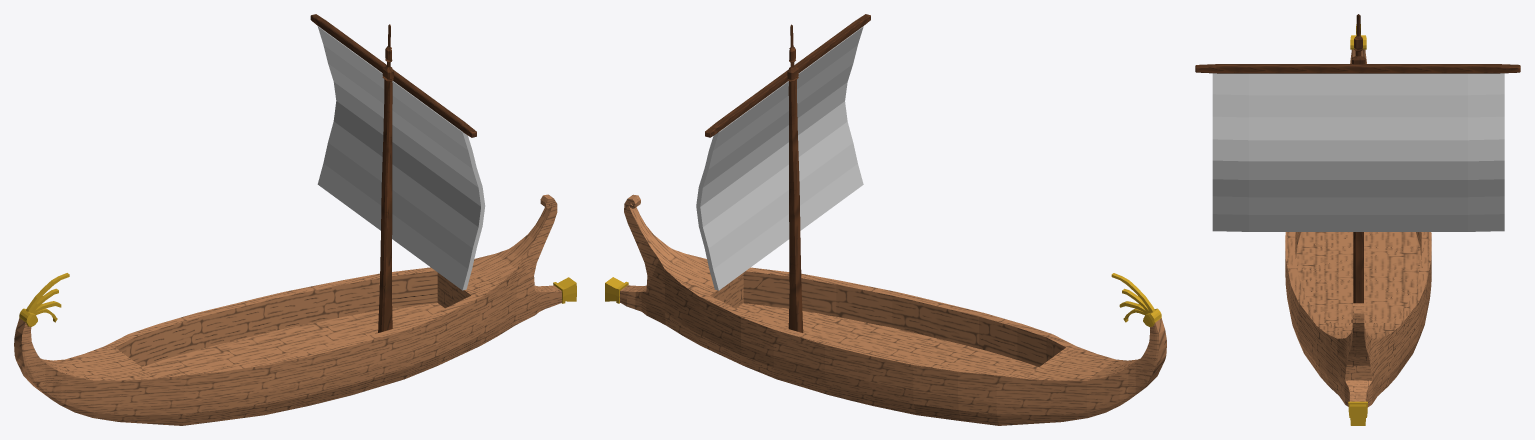
File: Trirème.fbx
The picture shows the model from 3 angles, left to right: view 1: azimuth 30°, elevation 25°; view 2: azimuth 150°, elevation 25°; view 3: azimuth 270°, elevation 25°; orthographic projection.
Parts seen in each view (by area): view 1: Cube, Cube.001, Cube.002, Cube.003, Cube.005; view 2: Cube, Cube.001, Cube.002, Cube.003, Cube.005; view 3: Cube.001, Cube, Cube.003, Cube.002, Cube.004.
Boxes of the visible parts, <box> form: Cube: <box>14,194,561,425</box>; Cube.001: <box>317,26,485,290</box>; Cube.002: <box>378,24,393,332</box>; Cube.003: <box>310,14,476,137</box>; Cube.005: <box>19,273,69,326</box>; Cube: <box>619,194,1166,425</box>; Cube.001: <box>696,26,863,290</box>; Cube.002: <box>787,24,803,332</box>; Cube.003: <box>705,14,870,137</box>; Cube.005: <box>1111,273,1161,326</box>; Cube.001: <box>1212,73,1504,231</box>; Cube: <box>1285,49,1431,413</box>; Cube.003: <box>1195,64,1520,73</box>; Cube.002: <box>1351,14,1365,303</box>; Cube.004: <box>1348,401,1367,425</box>.
Size of the model in its own units: 1048 by 595 by 527.
4 materials, 2 textured.
